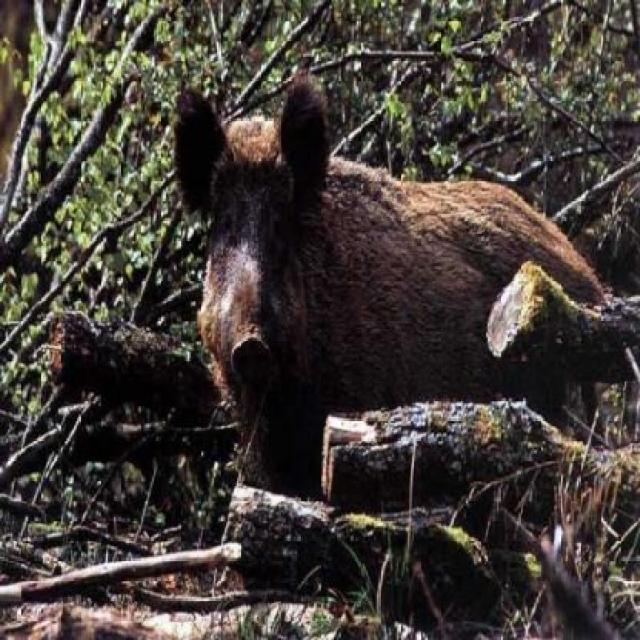pig: (172, 48, 640, 528)
